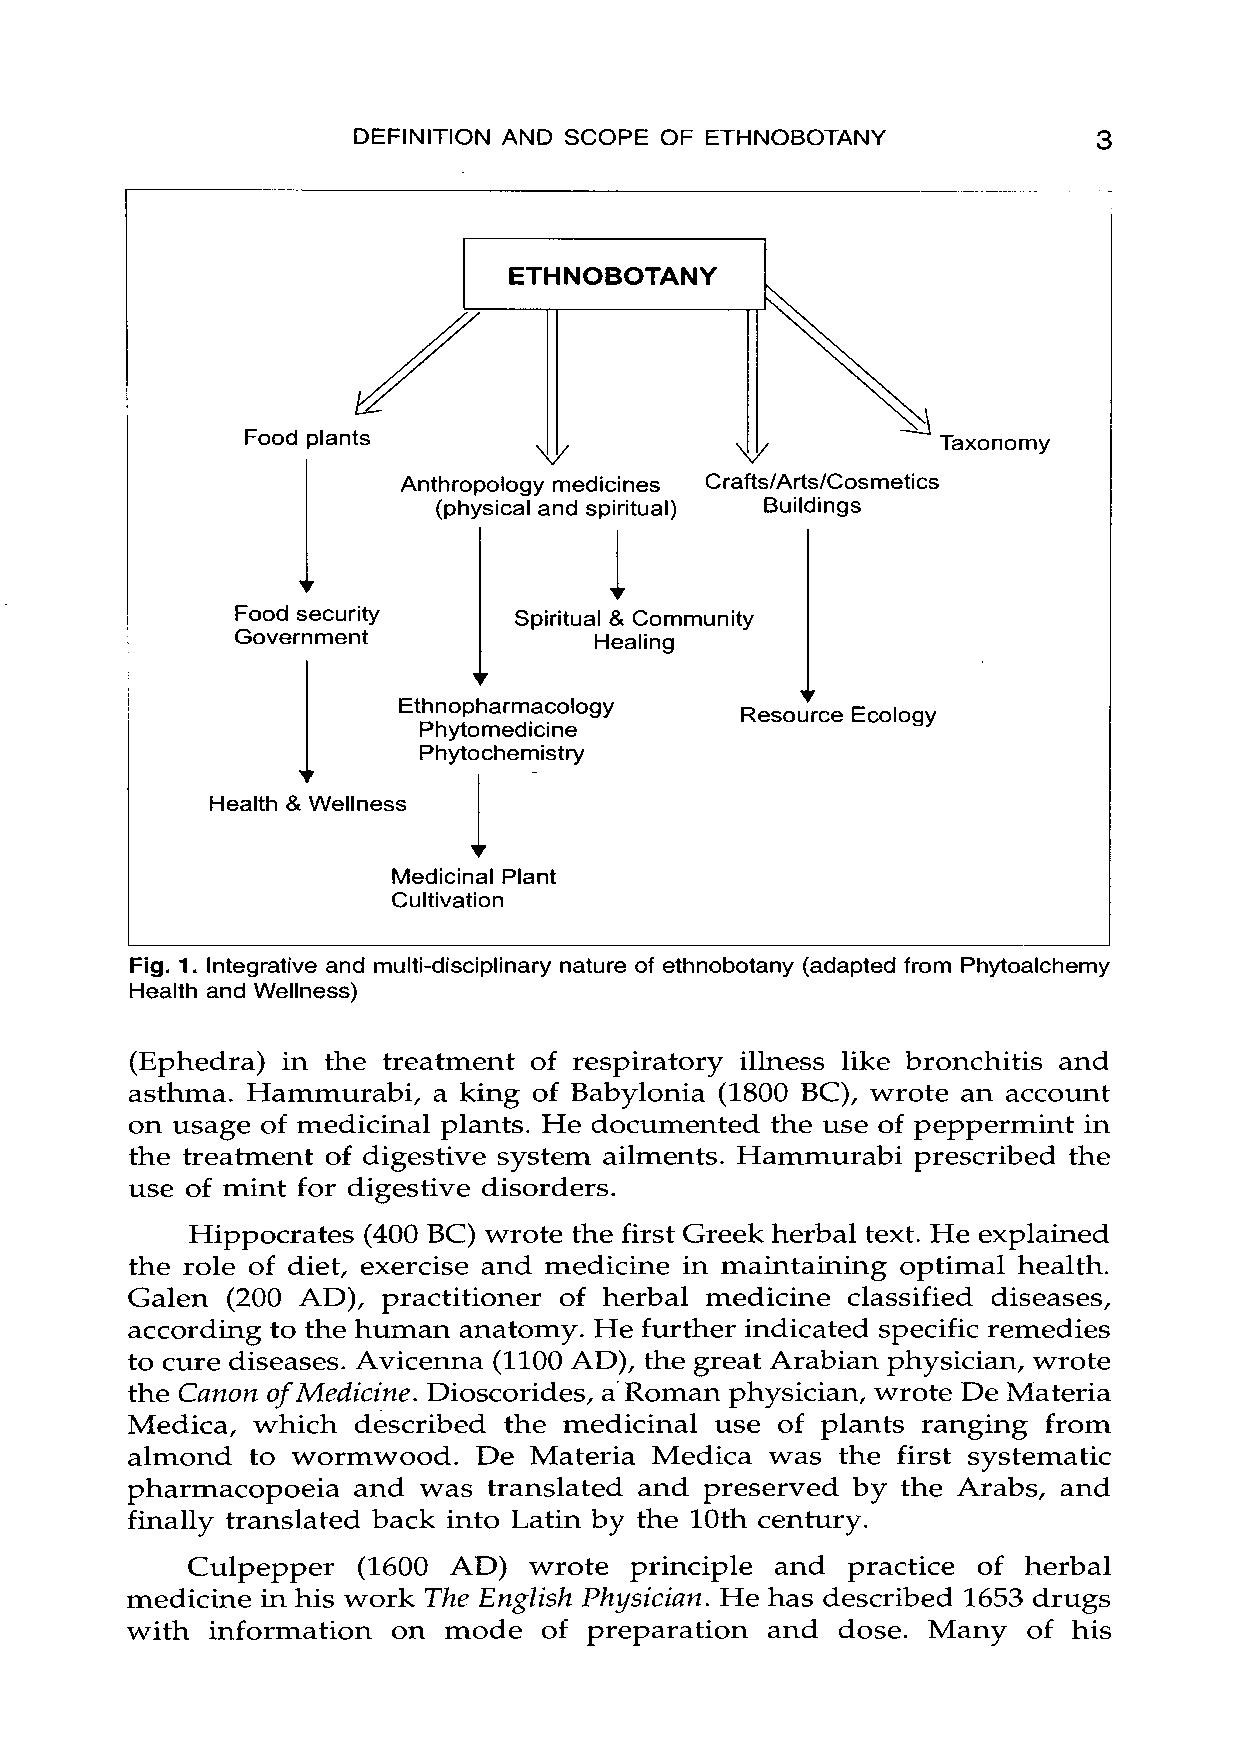content: (111, 185, 1125, 1648)
content_chapter: (349, 123, 884, 149)
content_pagenumber: (1091, 123, 1115, 160)
